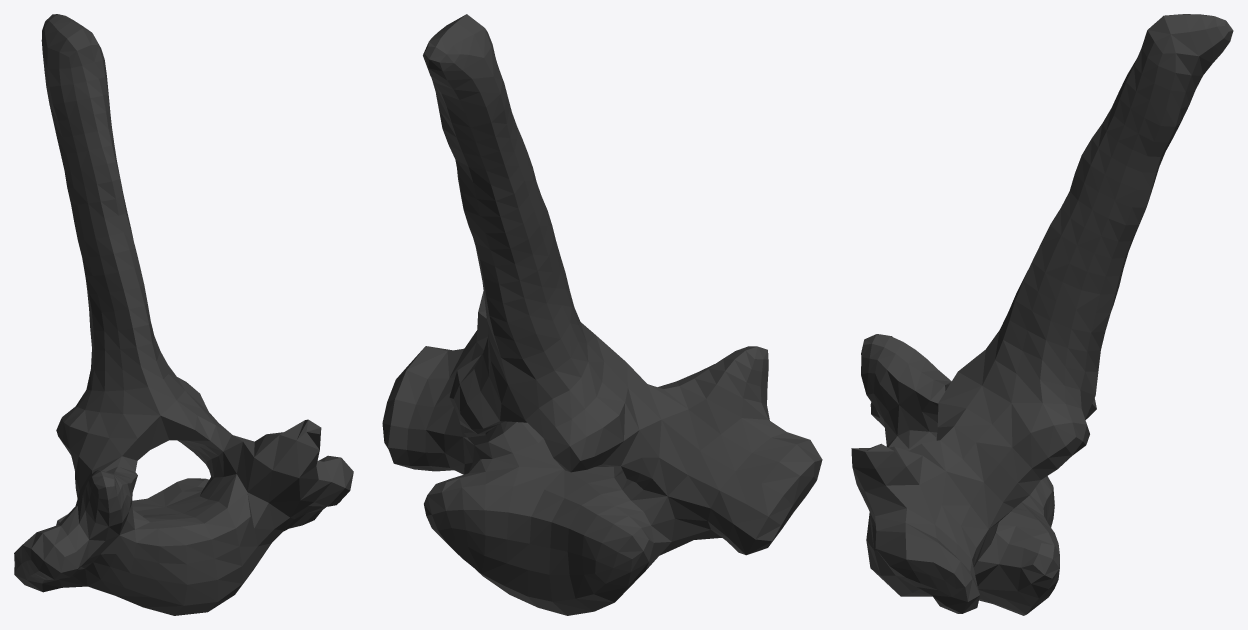
The picture shows the model from 3 angles, left to right: view 1: azimuth 30°, elevation 25°; view 2: azimuth 150°, elevation 25°; view 3: azimuth 270°, elevation 25°; orthographic projection. The views are drawn at different scales.
Parts seen in each view (by area): view 1: T1; view 2: T1; view 3: T1.
Part boxes in pixels (<box>): T1: <box>14,14,353,615</box>; T1: <box>382,14,822,615</box>; T1: <box>851,14,1233,615</box>.
Size of the model in its own units: 2.87 by 4.41 by 2.58.
1 material, 1 textured.
